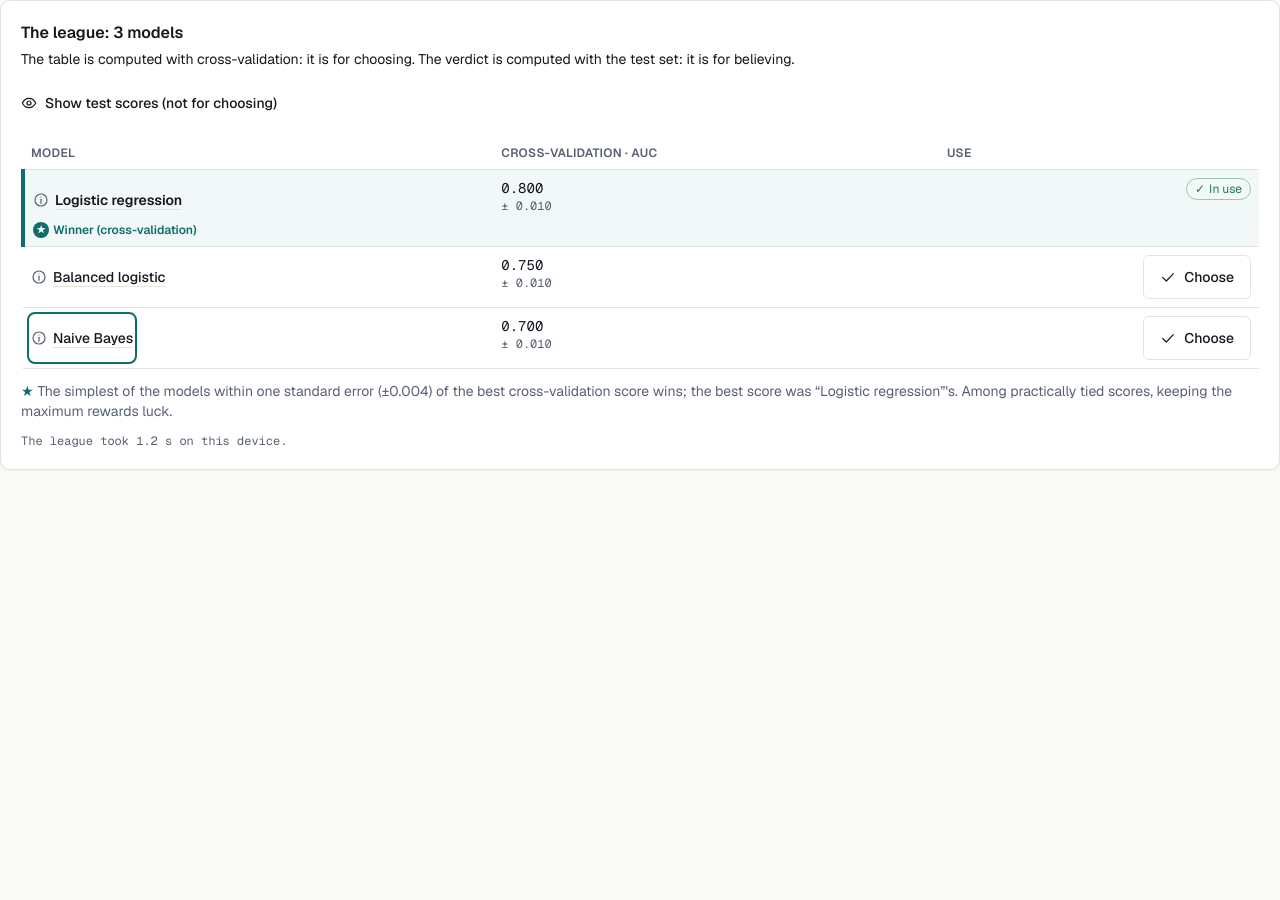
Test: FichaModelo (E3) — desde la tabla de la liga › en inglés, la ficha está redactada en inglés
Click the button with aria-label "About Naive Bayes" at (82, 338), box [31, 316, 133, 360]
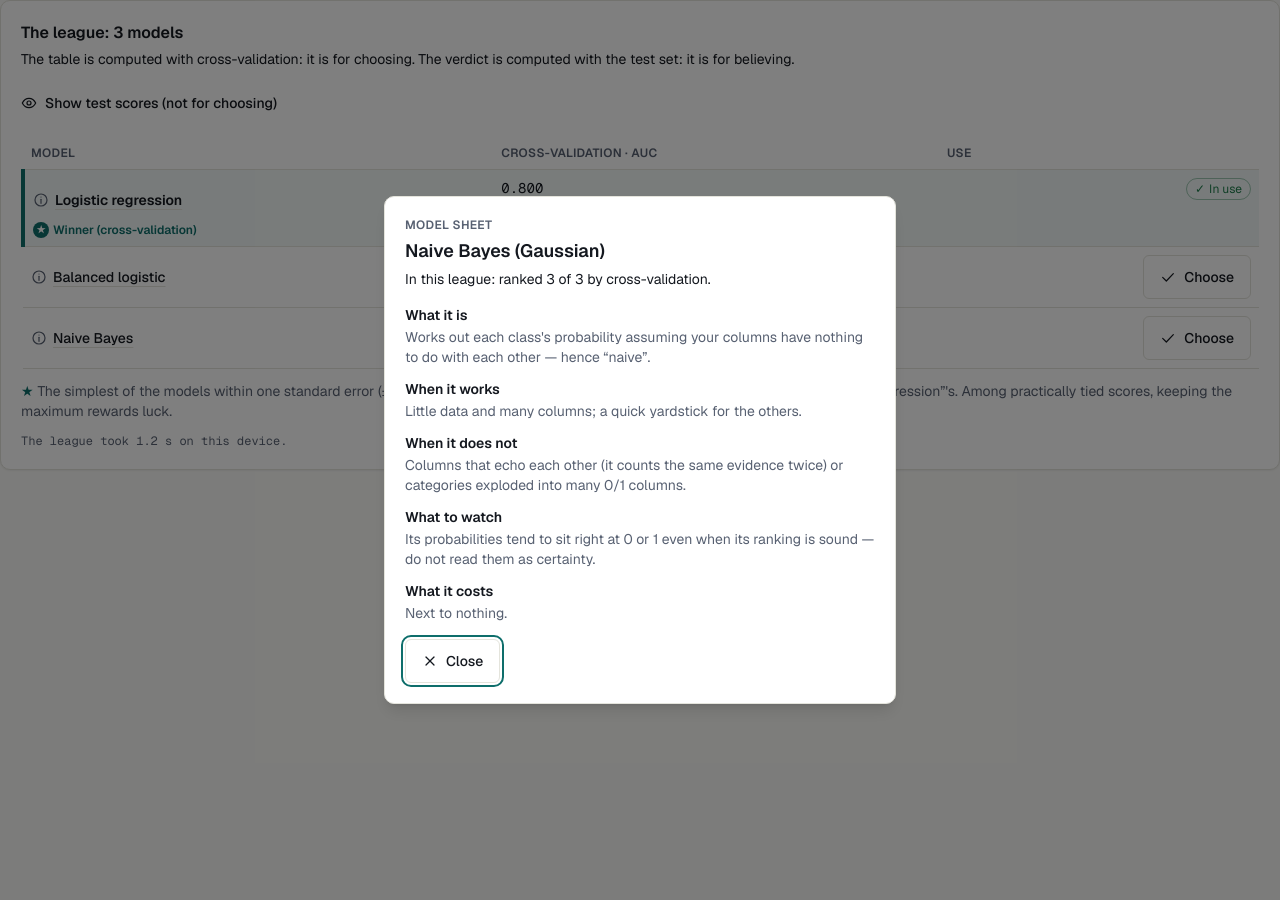
Check: the dialog is shown, box [384, 196, 896, 704]
Check: the text "Its probabilities tend to sit right at 0 or 1 even when its ranking is sound — do not read them as certainty." is shown, box [405, 530, 874, 568]
Check: the text "What it costs" is shown, box [405, 582, 493, 600]
